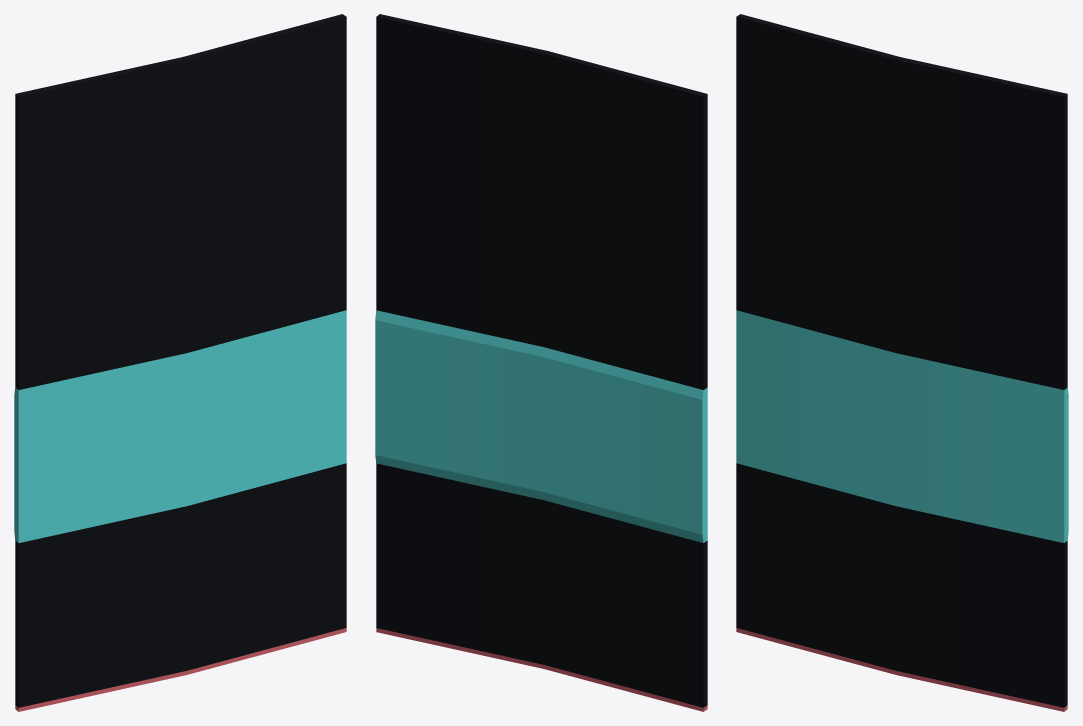
File: wall_curve.fbx
3 views of the same model, side by side, from view 1: azimuth 30°, elevation 25°; view 2: azimuth 150°, elevation 25°; view 3: azimuth 330°, elevation 25° (orthographic).
Visible parts, largest first — view 1: pCylinder3; view 2: pCylinder3; view 3: pCylinder3.
Boxes of the visible parts, <box> form: pCylinder3: <box>14,14,346,711</box>; pCylinder3: <box>375,14,707,711</box>; pCylinder3: <box>736,14,1068,711</box>.
Bounding box in the file's own units: 9.79 × 17.55 × 0.4651.
